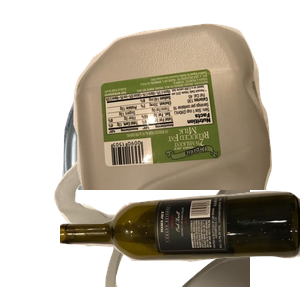glass: (60, 189, 300, 300)
metal: (60, 44, 300, 224)
plastic: (71, 21, 300, 201)
trash: (51, 120, 291, 300)
